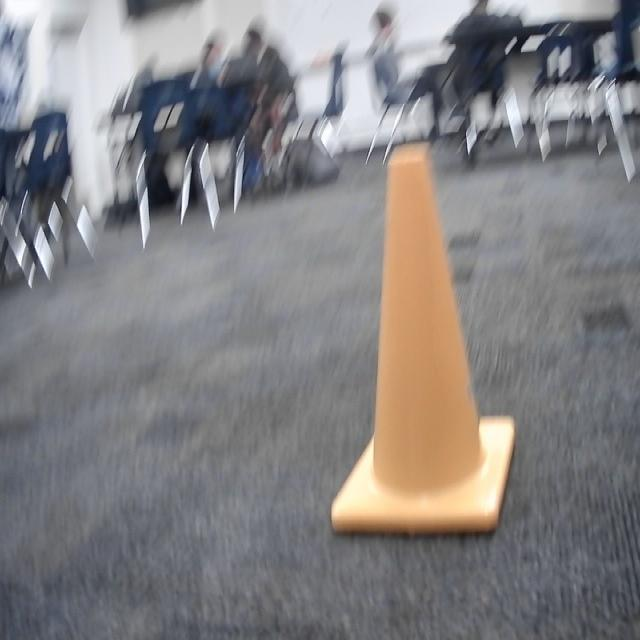cone: (328, 142, 517, 538)
